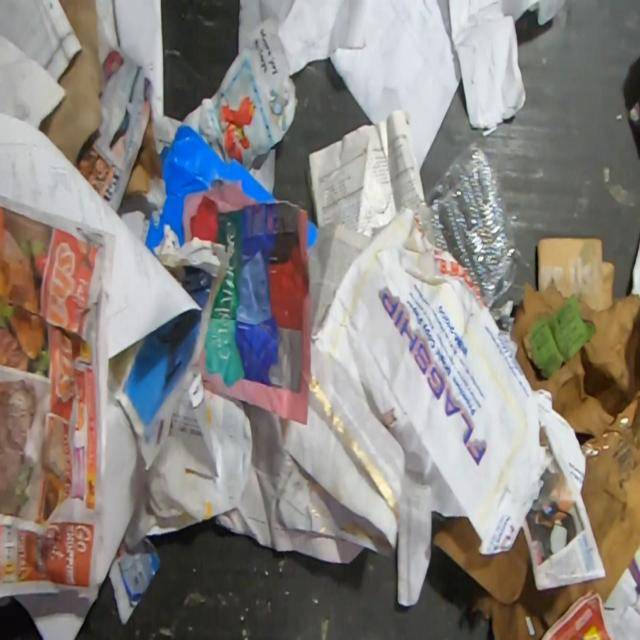cardboard: (431, 275, 640, 639), (144, 125, 280, 259), (537, 237, 614, 311), (123, 103, 160, 195), (307, 221, 318, 251)
rigid_plastic: (414, 140, 518, 310)
